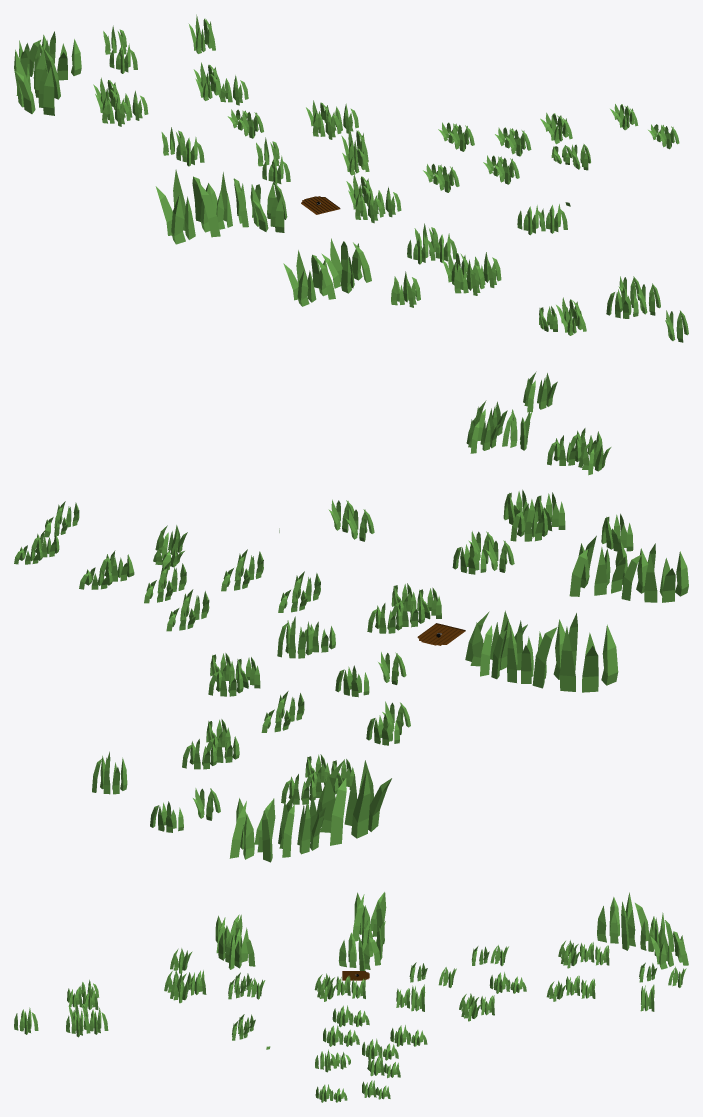
File: New Grass.fbx
3 views of the same model, one above another, from view 1: azimuth 30°, elevation 25°; view 2: azimuth 150°, elevation 25°; view 3: azimuth 270°, elevation 25° (orthographic). The views are drawn at different scales.
Parts seen in each view (by area): view 1: Grass ground; view 2: Grass ground; view 3: Grass ground.
Boxes of the visible parts, x1,y1,x2,y2 form: Grass ground: (14, 14, 688, 342); Grass ground: (14, 371, 688, 862); Grass ground: (14, 892, 688, 1102).
Size of the model in its own units: 575 by 72.01 by 925.
